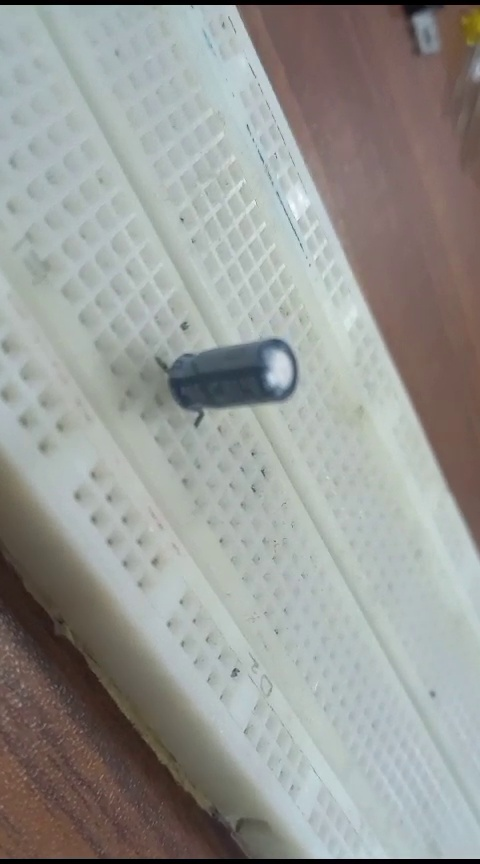capacitor: (148, 320, 299, 431)
